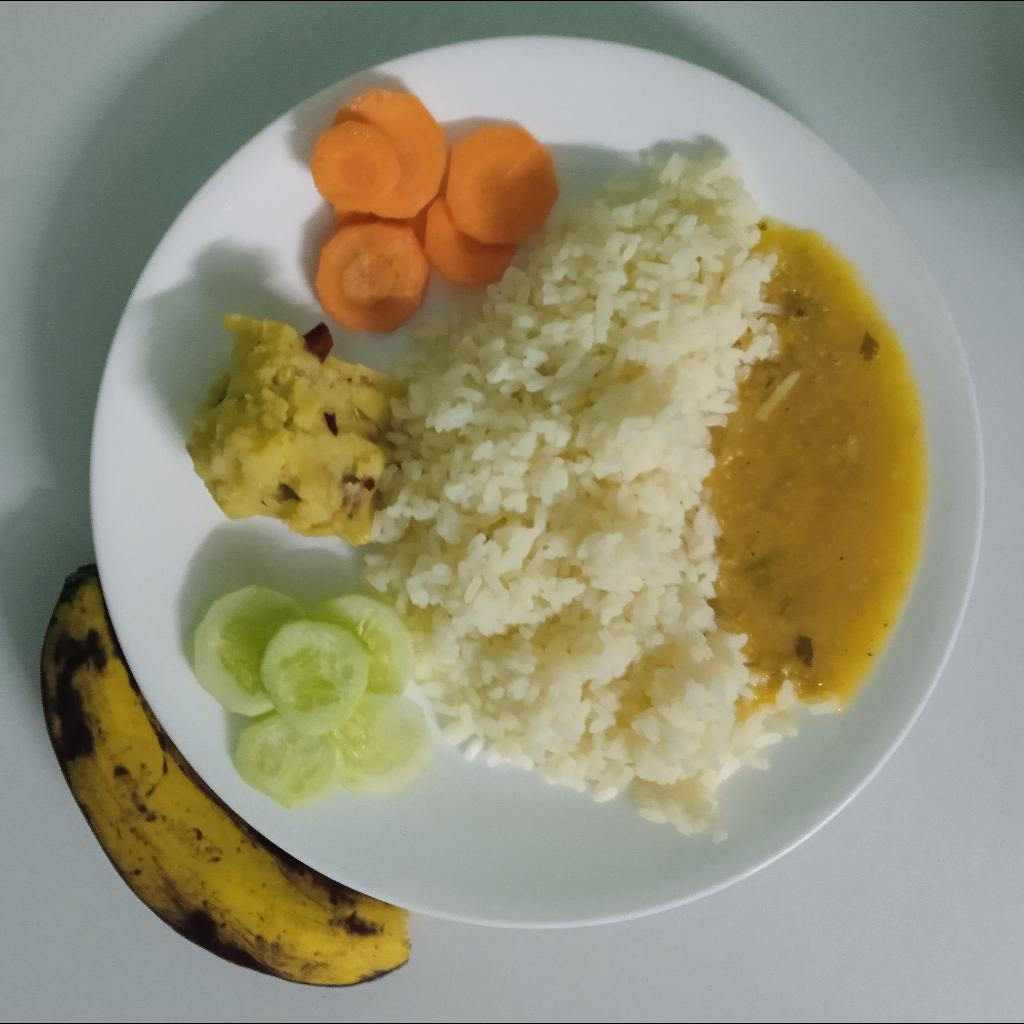banana: (39, 563, 410, 990)
carrot: (308, 89, 561, 335)
cucumber: (193, 585, 434, 816)
daal: (699, 221, 933, 711)
potato-mashed: (186, 315, 396, 548)
rice: (372, 147, 797, 836)
